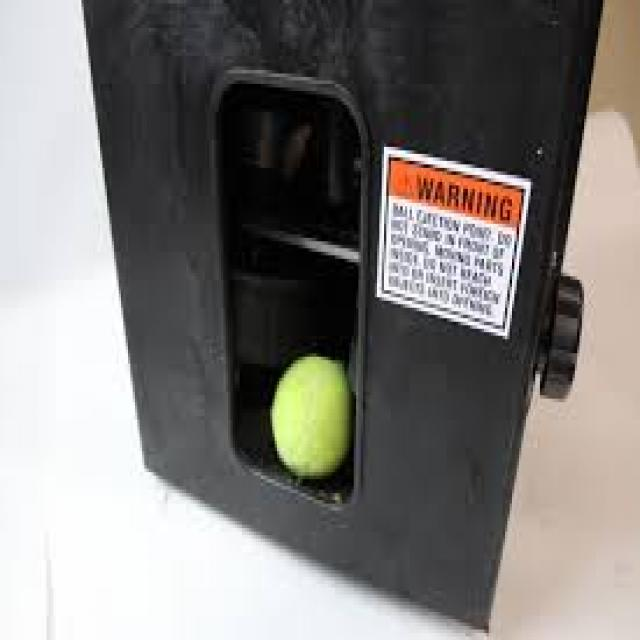Tennis-Ball: (270, 341, 357, 484)
